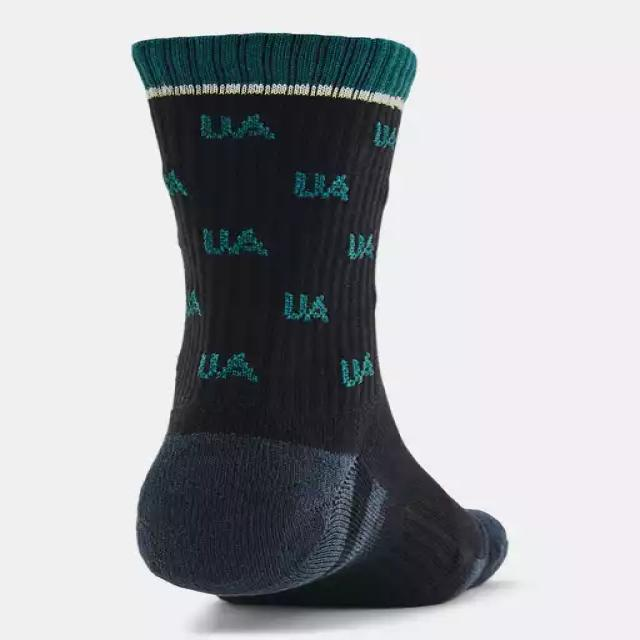sock: (130, 32, 508, 608)
